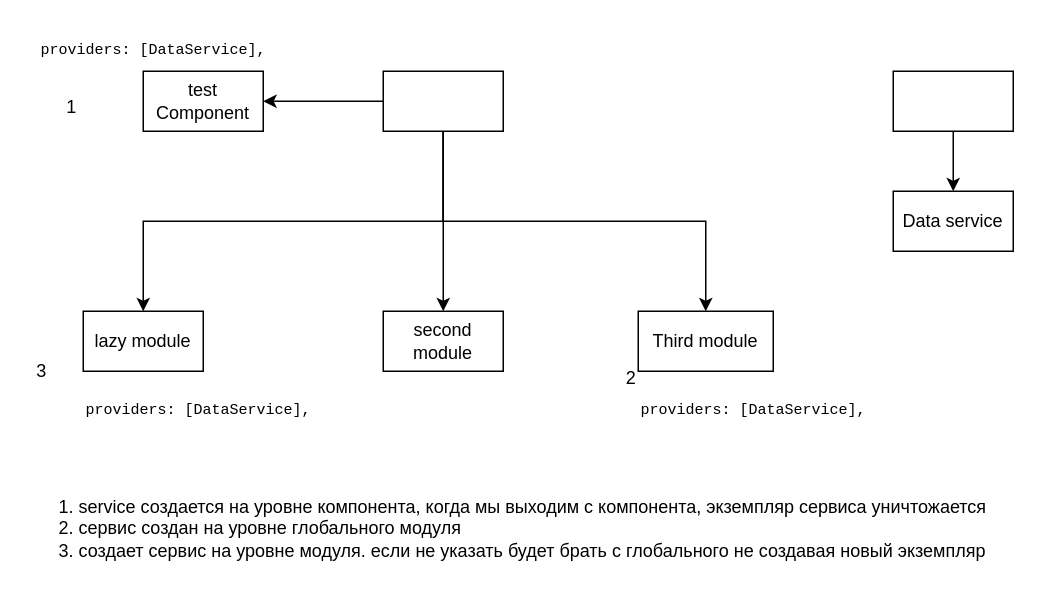
Image size: 1040x591. Some labels were removed from this diagram. Each missing label, with the centre of its shape:
"main module" belongs at pixel 442 100.
"Write service" belongs at pixel 952 100.
